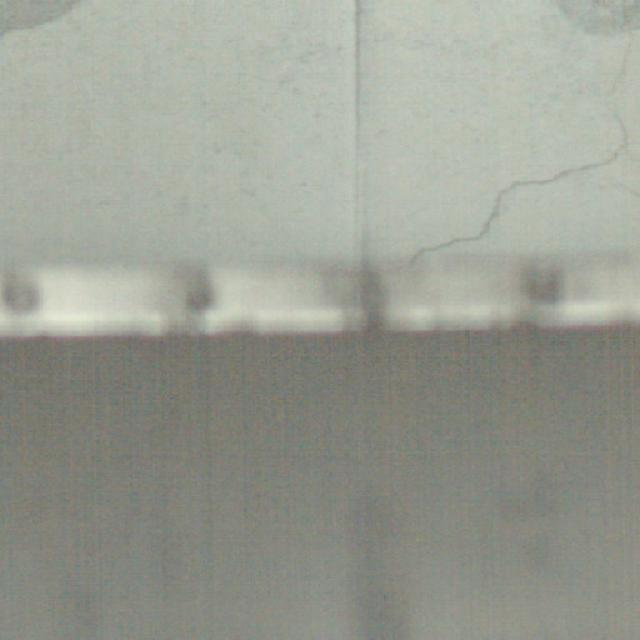Network: (410, 0, 640, 265)
